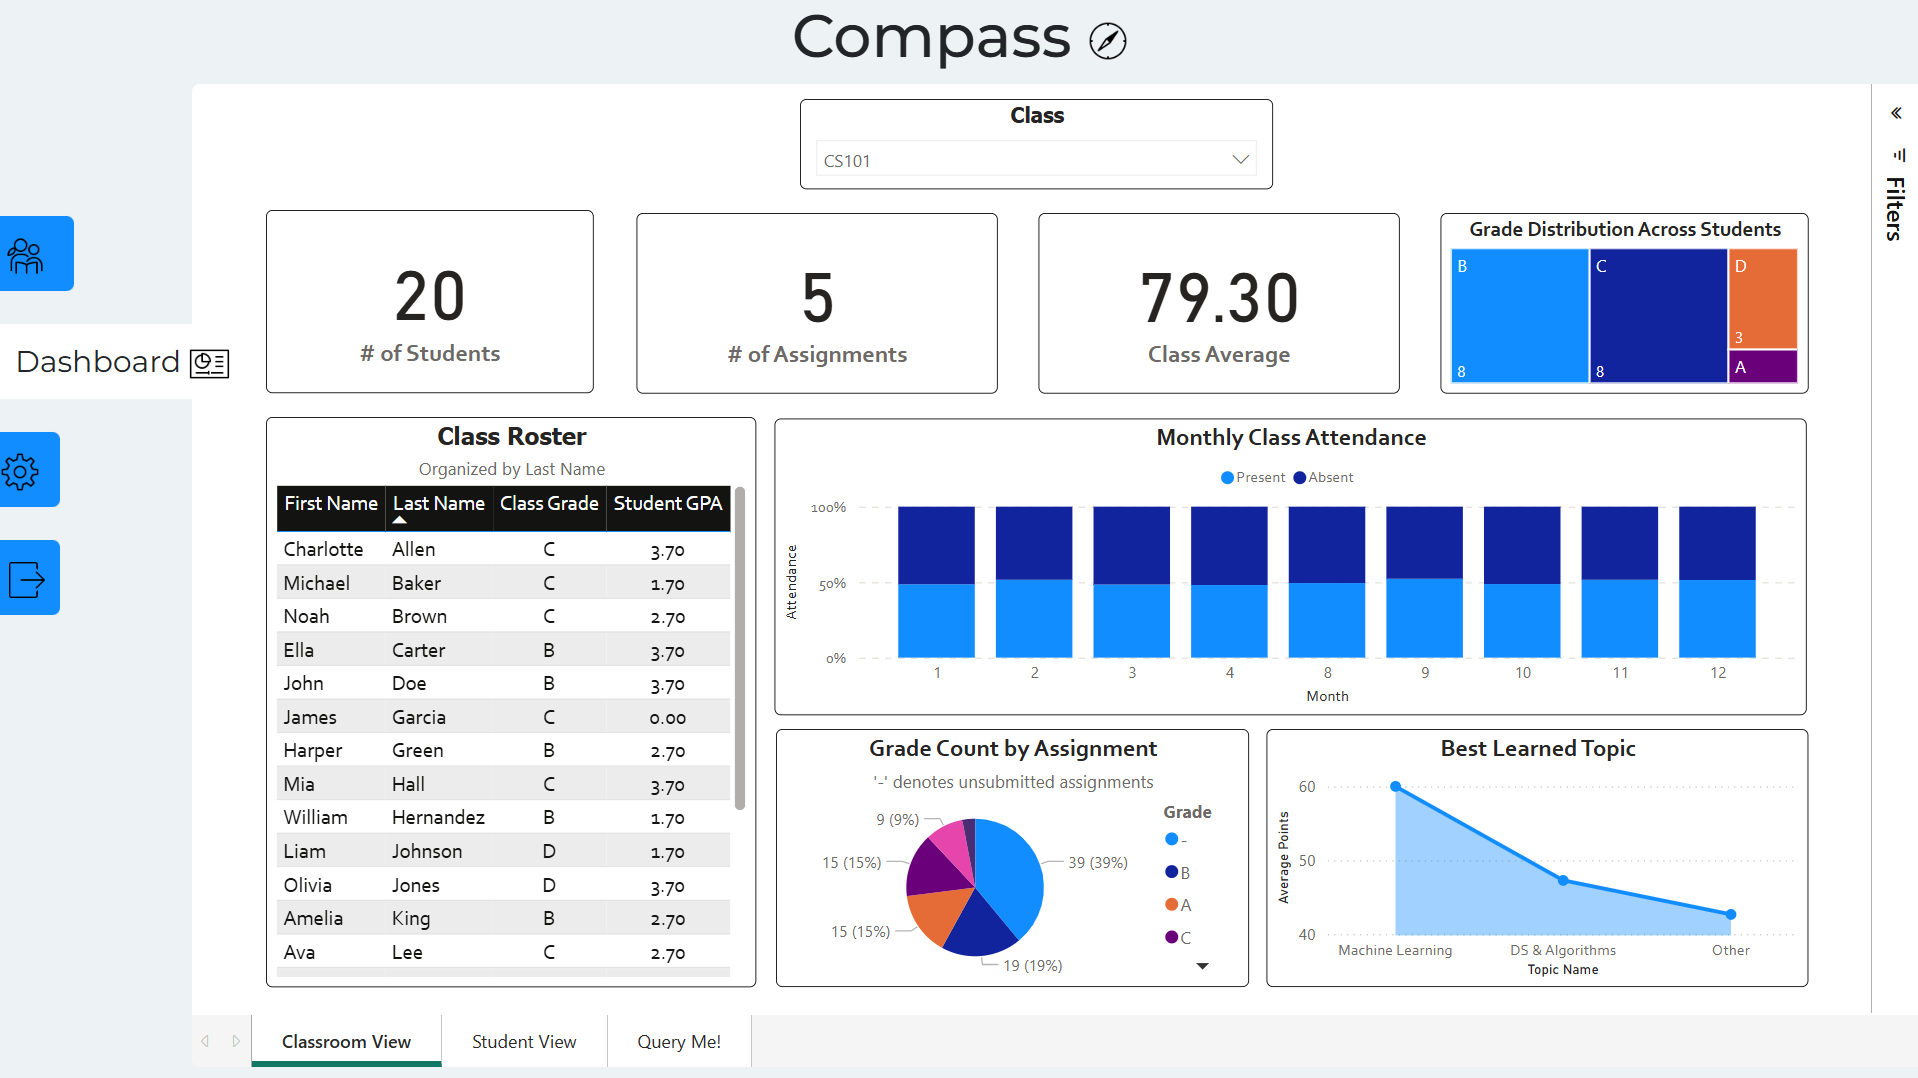

What the dashboard file says about the page in this screenshot:
{"tool":"powerbi","page":{"name":"Classroom View","canvas":[1280,720],"ordinal":0},"visuals":[{"type":"card","title":"Student Count","fields":{"Values":["public students.studentid"]},"box":[46,98,254,142],"z":0},{"type":"card","fields":{"Values":["public assignments.assignmentid"]},"box":[333.3,100,280,140],"z":1000},{"type":"card","fields":{"Values":["public assignmentsentry.points"]},"box":[645,100,280,140],"z":2000},{"type":"tableEx","title":"Class Roster","fields":{"Values":["public students.first_name","public students.last_name","public students.class_grade","public gpa.gpaval"]},"box":[46.7,258.3,380,441.7],"z":3000},{"type":"pieChart","title":"Grade Count by Assignment","fields":{"Y":["public assignmentsentry.assignments_entryid"],"Category":["public assignmentsentry.ass_grade"]},"box":[441.7,500,366.7,200],"z":4000},{"type":"areaChart","title":"Best Learned Topic","fields":{"Category":["public topics.topic_name"],"Y":["public assignmentsentry.points"]},"box":[821.7,500,420,200],"z":5000},{"type":"slicer","title":"Class","fields":{"Values":["public classes.class_name"]},"box":[460,11.7,366.7,70],"z":6000},{"type":"treemap","title":"Grade Distribution Across Students","fields":{"Group":["public students.class_grade"],"Values":["public students.letter_grade"]},"box":[956.7,100,285,140],"z":7000},{"type":"hundredPercentStackedColumnChart","title":"Monthly Class Attendance","fields":{"Category":["public months.monthsid"],"Y":["public attendance.Count of Present for 1","public attendance.Count of Present for 0"]},"box":[440.6,258.9,800,230],"z":8000}]}

Visuals, with their boxes on the page's 1280x720 design canvas (x1, y1, x2, y2). These are canvas units, not pixel positions in the 1918x1078 screenshot, which may show the page scaled, cropped or inside an application window:
"Student Count" card: detection(46, 98, 300, 240)
card - public assignments.assignmentid: detection(333, 100, 613, 240)
card - public assignmentsentry.points: detection(645, 100, 925, 240)
"Class Roster" tableEx: detection(47, 258, 427, 700)
"Grade Count by Assignment" pieChart: detection(442, 500, 808, 700)
"Best Learned Topic" areaChart: detection(822, 500, 1242, 700)
"Class" slicer: detection(460, 12, 827, 82)
"Grade Distribution Across Students" treemap: detection(957, 100, 1242, 240)
"Monthly Class Attendance" hundredPercentStackedColumnChart: detection(441, 259, 1241, 489)
